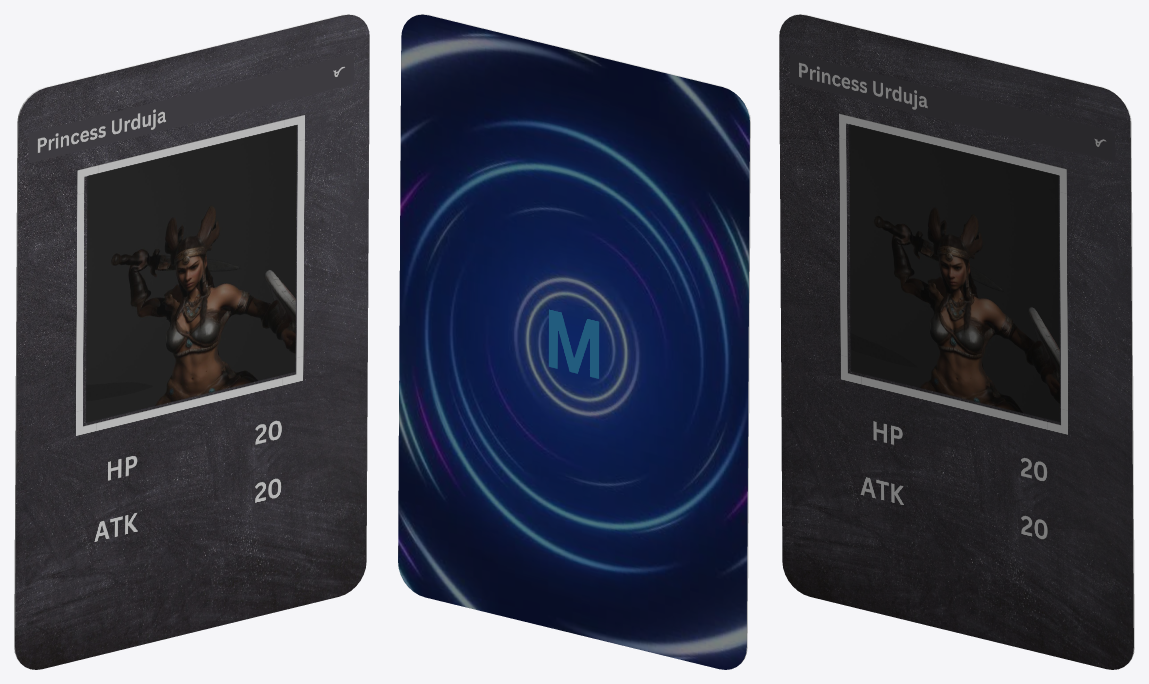
Rendered from Princess Urduja.glb.
The picture shows the model from 3 angles, left to right: view 1: azimuth 30°, elevation 25°; view 2: azimuth 150°, elevation 25°; view 3: azimuth 330°, elevation 25°; orthographic projection.
Visible parts, largest first — view 1: Card; view 2: Card; view 3: Card.
Part boxes in pixels (<box>): Card: <box>14,14,369,669</box>; Card: <box>398,14,750,669</box>; Card: <box>779,14,1134,669</box>.
Bounding box in the file's own units: 0.056 × 0.0889 × 0.00122.
3 materials, 2 textured.
